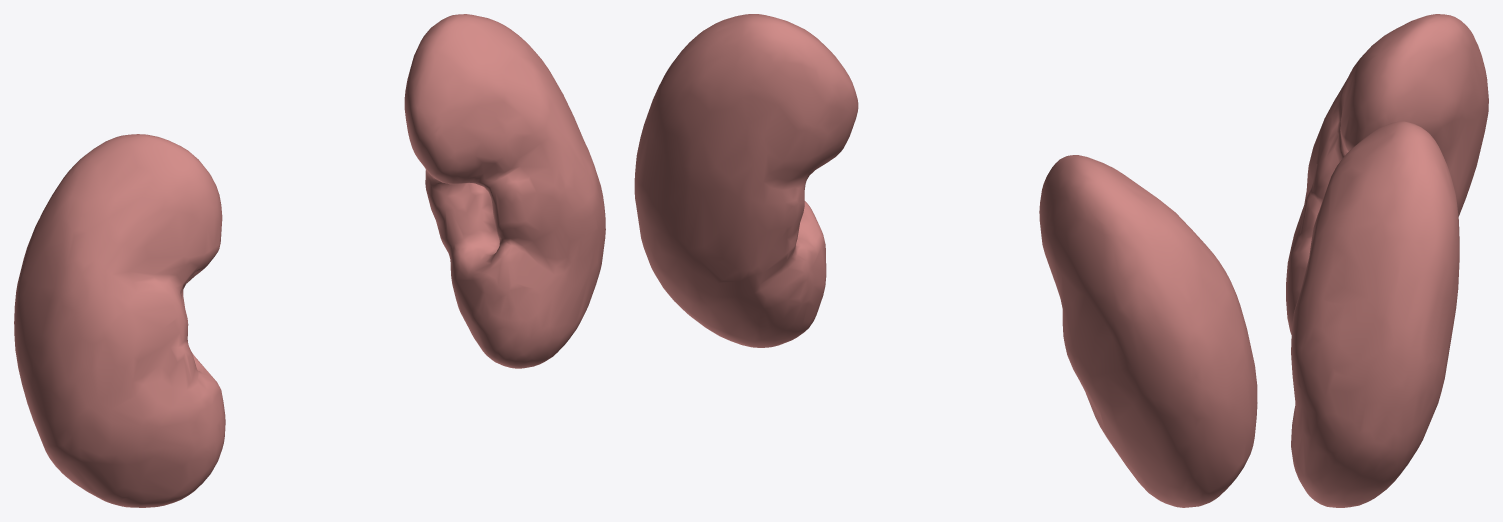
File: kidneys.glb
3 renders of one model, left to right at view 1: azimuth 30°, elevation 25°; view 2: azimuth 150°, elevation 25°; view 3: azimuth 270°, elevation 25°, orthographic. The views are drawn at different scales.
Visible parts, largest first — view 1: kidneys; view 2: kidneys; view 3: kidneys.
Part boxes in pixels (box(x1,y1,x2,y2)): kidneys: box(14, 14, 605, 507); kidneys: box(634, 14, 1257, 507); kidneys: box(1286, 14, 1488, 507).
Size of the model in its own units: 0.1806 by 0.118 by 0.053.
